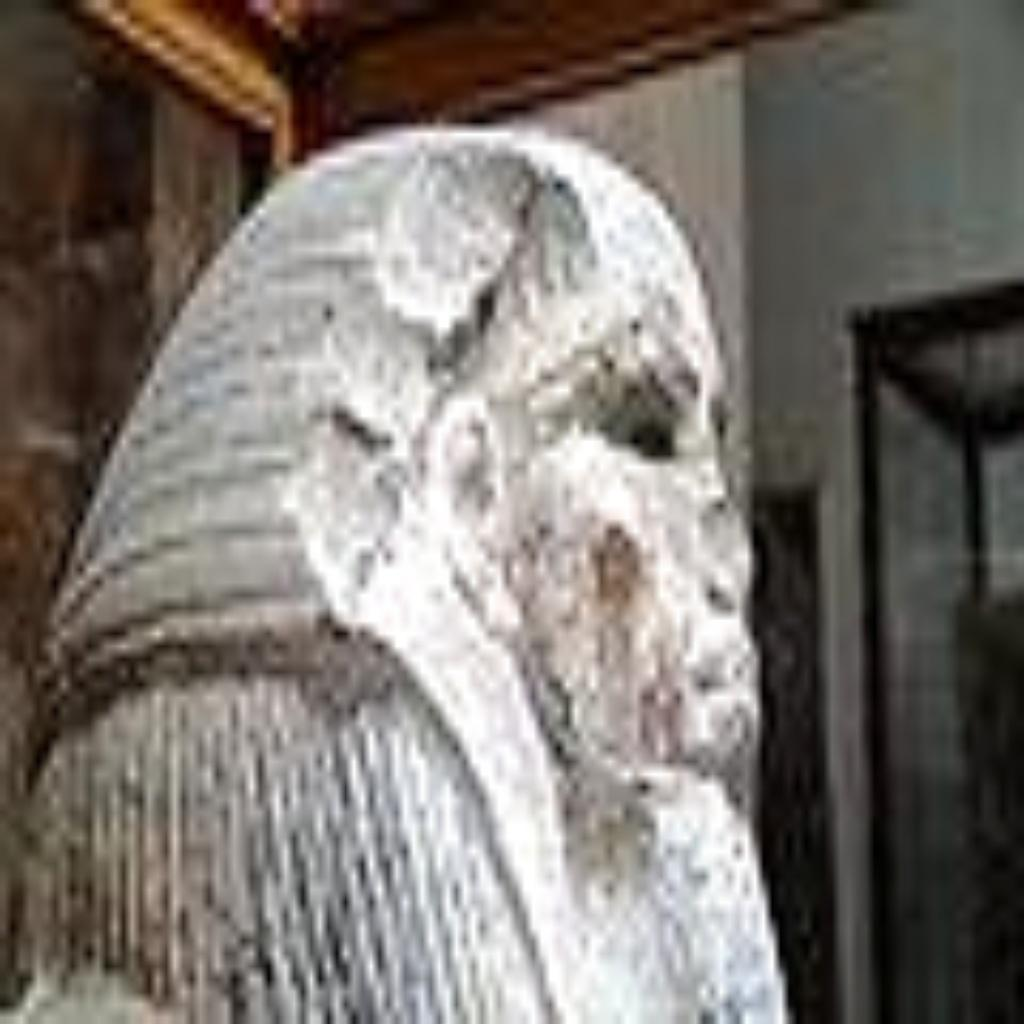Statue of King Zoser: (0, 102, 811, 1012)
